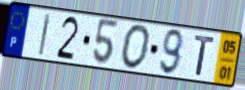2: (55, 15, 81, 62)
5: (91, 17, 121, 68)
9: (159, 27, 187, 77)
I: (37, 12, 53, 57)
O: (119, 22, 153, 71)
T: (193, 34, 217, 78)
